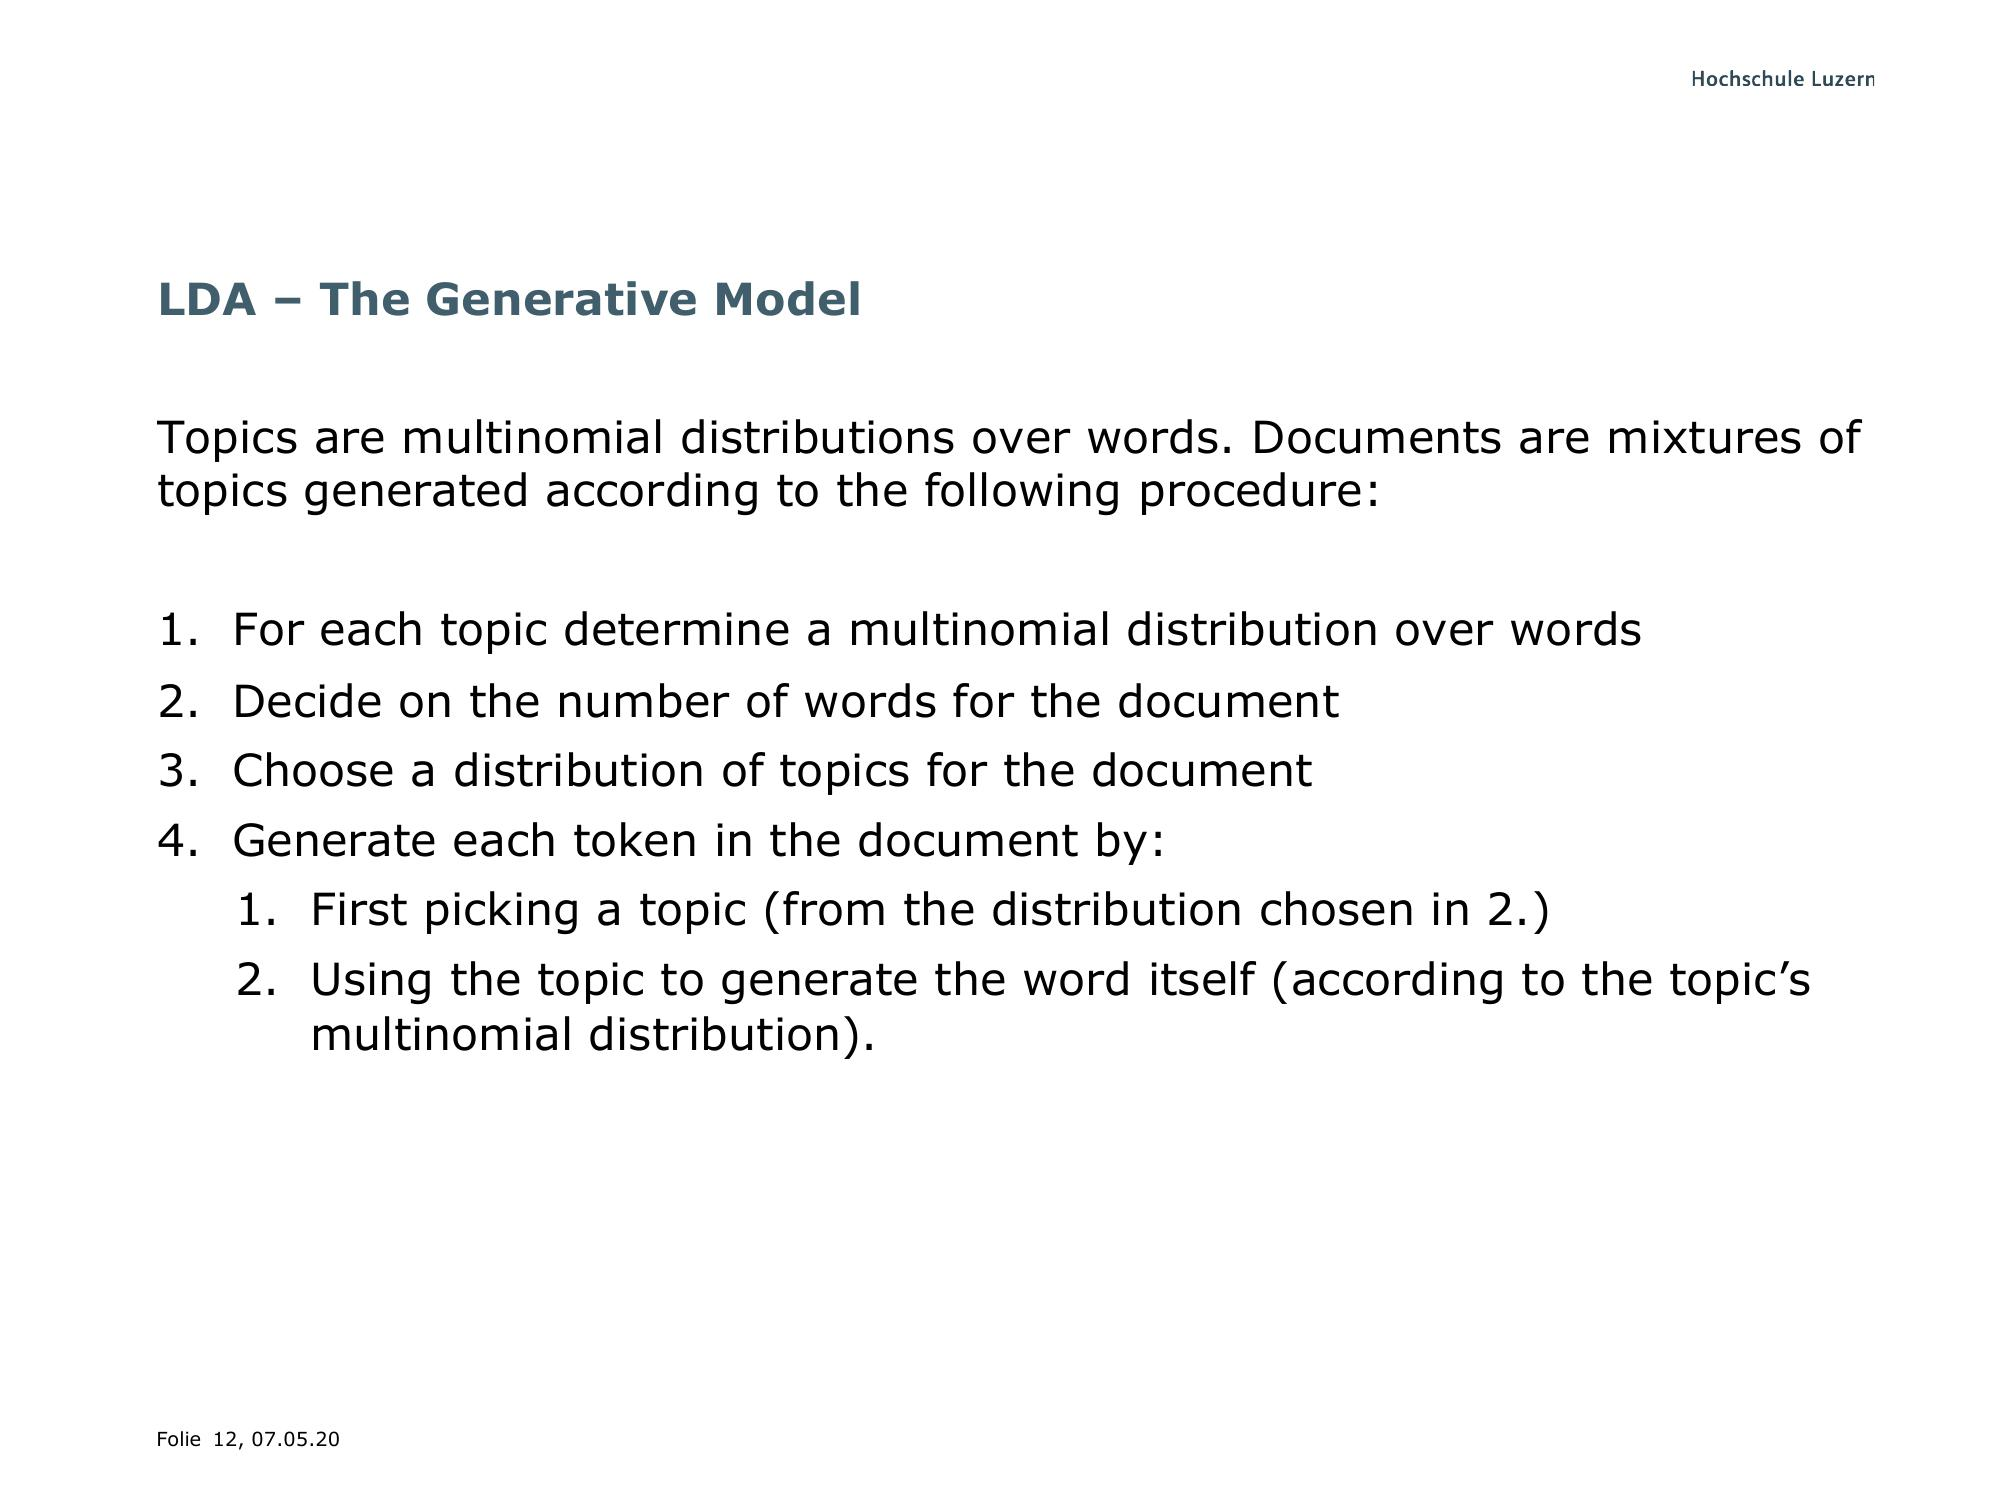Title: (154, 276, 868, 325)
